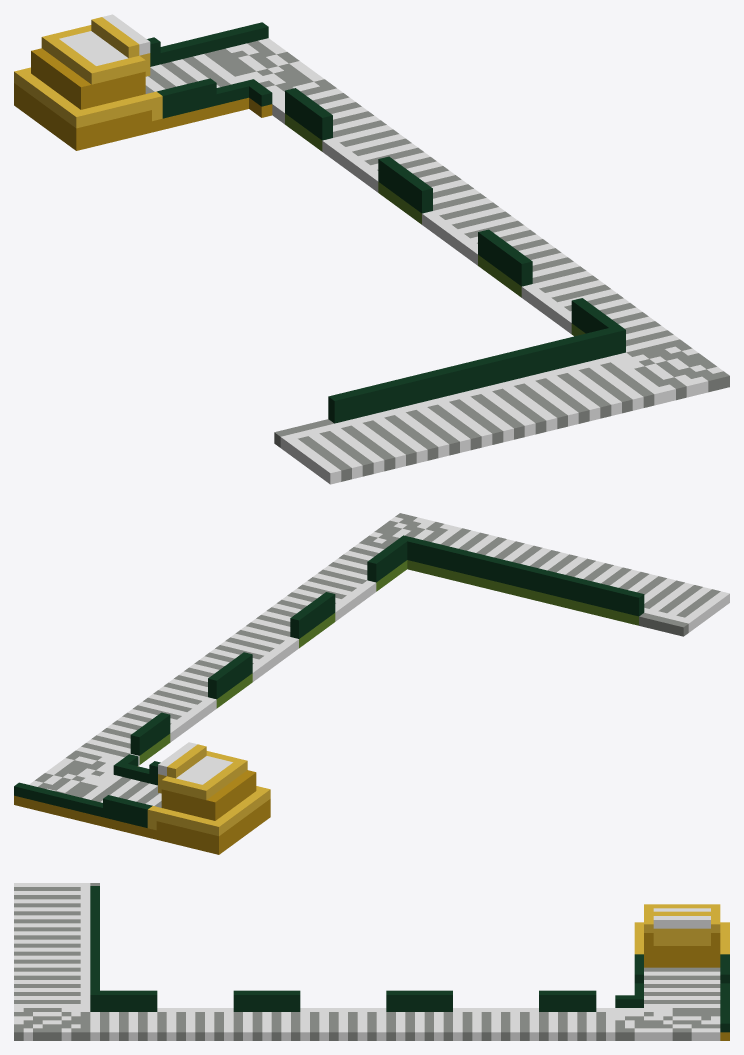
File: Belt.obj
3 views of the same model, one above another, from view 1: azimuth 30°, elevation 25°; view 2: azimuth 150°, elevation 25°; view 3: azimuth 270°, elevation 25° (orthographic). The views are drawn at different scales.
Bounding box in the file's own units: 3.7 × 0.7 × 7.5.
1 material, 1 textured.
